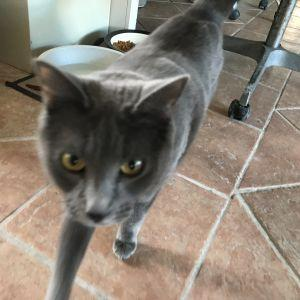rblue: (32, 55, 205, 254)
